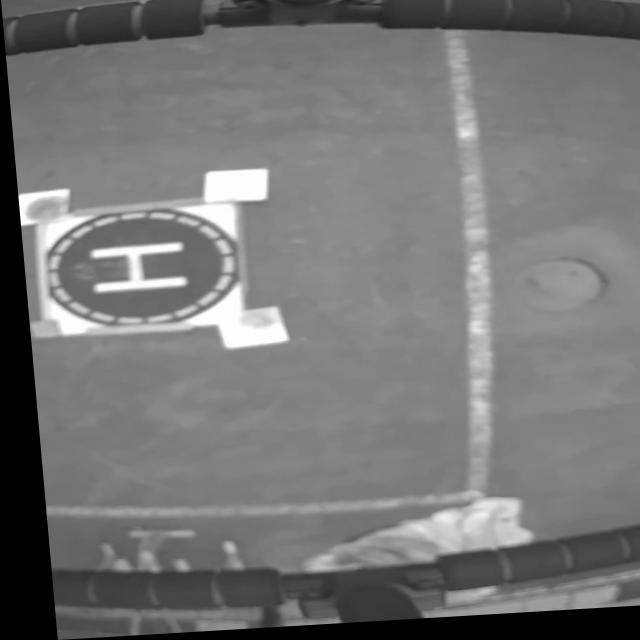Helipad: (82, 243, 184, 296)
